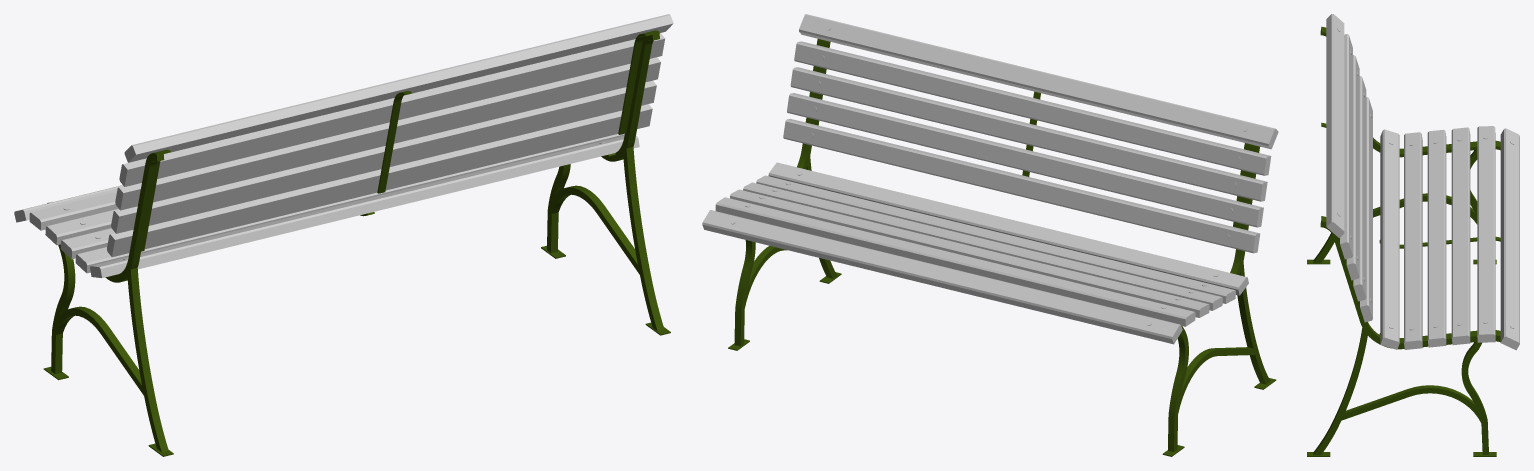
The picture shows the model from 3 angles, left to right: view 1: azimuth 30°, elevation 25°; view 2: azimuth 150°, elevation 25°; view 3: azimuth 270°, elevation 25°; orthographic projection. The views are drawn at different scales.
Parts seen in each view (by area): view 1: mesh35_mesh35-geometry, mesh3_mesh3-geometry, mesh22_mesh22-geometry, mesh26_mesh26-geometry, mesh7_mesh7-geometry, mesh34_mesh34-geometry, mesh15_mesh15-geometry, mesh24_mesh24-geometry, mesh5_mesh5-geometry, mesh10_mesh10-geometry, mesh17_mesh17-geometry; view 2: mesh35_mesh35-geometry, mesh37_mesh37-geometry, mesh24_mesh24-geometry, mesh5_mesh5-geometry, mesh22_mesh22-geometry, mesh34_mesh34-geometry; view 3: mesh35_mesh35-geometry, mesh15_mesh15-geometry, mesh7_mesh7-geometry, mesh3_mesh3-geometry, mesh5_mesh5-geometry, mesh34_mesh34-geometry, mesh26_mesh26-geometry, mesh22_mesh22-geometry, mesh24_mesh24-geometry.
Part boxes in pixels (x1,y1,x2,y2): mesh35_mesh35-geometry: (14,14,673,277); mesh3_mesh3-geometry: (623,147,664,331); mesh22_mesh22-geometry: (127,268,168,452); mesh26_mesh26-geometry: (105,151,164,282); mesh7_mesh7-geometry: (602,30,659,161); mesh34_mesh34-geometry: (56,306,143,395); mesh15_mesh15-geometry: (551,185,639,274); mesh24_mesh24-geometry: (51,244,75,374); mesh5_mesh5-geometry: (547,164,570,253); mesh10_mesh10-geometry: (618,32,652,134); mesh17_mesh17-geometry: (377,91,411,193); mesh35_mesh35-geometry: (702,14,1278,344); mesh37_mesh37-geometry: (828,52,948,90); mesh24_mesh24-geometry: (1168,326,1188,451); mesh5_mesh5-geometry: (734,240,755,346); mesh22_mesh22-geometry: (1237,262,1270,384); mesh34_mesh34-geometry: (1178,347,1254,412); mesh35_mesh35-geometry: (1326,14,1519,350); mesh15_mesh15-geometry: (1341,385,1480,422); mesh7_mesh7-geometry: (1320,218,1500,349); mesh3_mesh3-geometry: (1313,328,1367,455); mesh5_mesh5-geometry: (1461,338,1488,454); mesh34_mesh34-geometry: (1373,193,1477,224); mesh26_mesh26-geometry: (1320,26,1500,157); mesh22_mesh22-geometry: (1313,233,1334,263); mesh24_mesh24-geometry: (1470,148,1477,217).
Bounding box in the file's own units: 0.8229 × 0.4434 × 0.3554.
